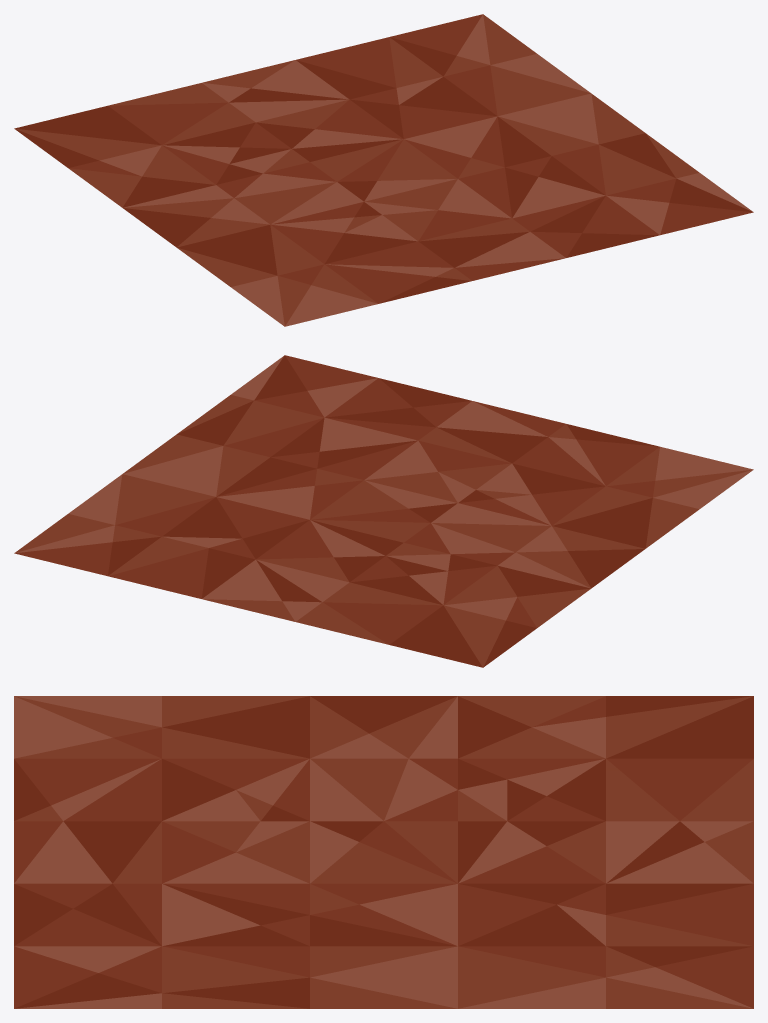
Rendered from Flat_Roof.fbx.
The picture shows the model from 3 angles, top to bottom: view 1: azimuth 30°, elevation 25°; view 2: azimuth 150°, elevation 25°; view 3: azimuth 270°, elevation 25°; orthographic projection. The views are drawn at different scales.
Visible parts, largest first — view 1: Flat_Roof; view 2: Flat_Roof; view 3: Flat_Roof.
Boxes of the visible parts, x1=… form: Flat_Roof: x1=14, y1=14, x2=753, y2=326; Flat_Roof: x1=14, y1=355, x2=753, y2=667; Flat_Roof: x1=14, y1=696, x2=753, y2=1008.
Size of the model in its own units: 400 by 8.88e-14 by 400.
